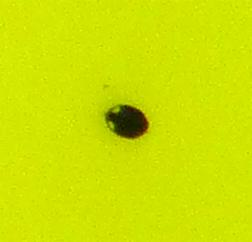Coleoptera: (100, 100, 152, 142)
